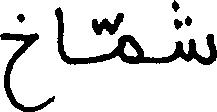X: (0, 9, 36, 111), (178, 0, 216, 69), (120, 8, 142, 68), (55, 2, 65, 66)
